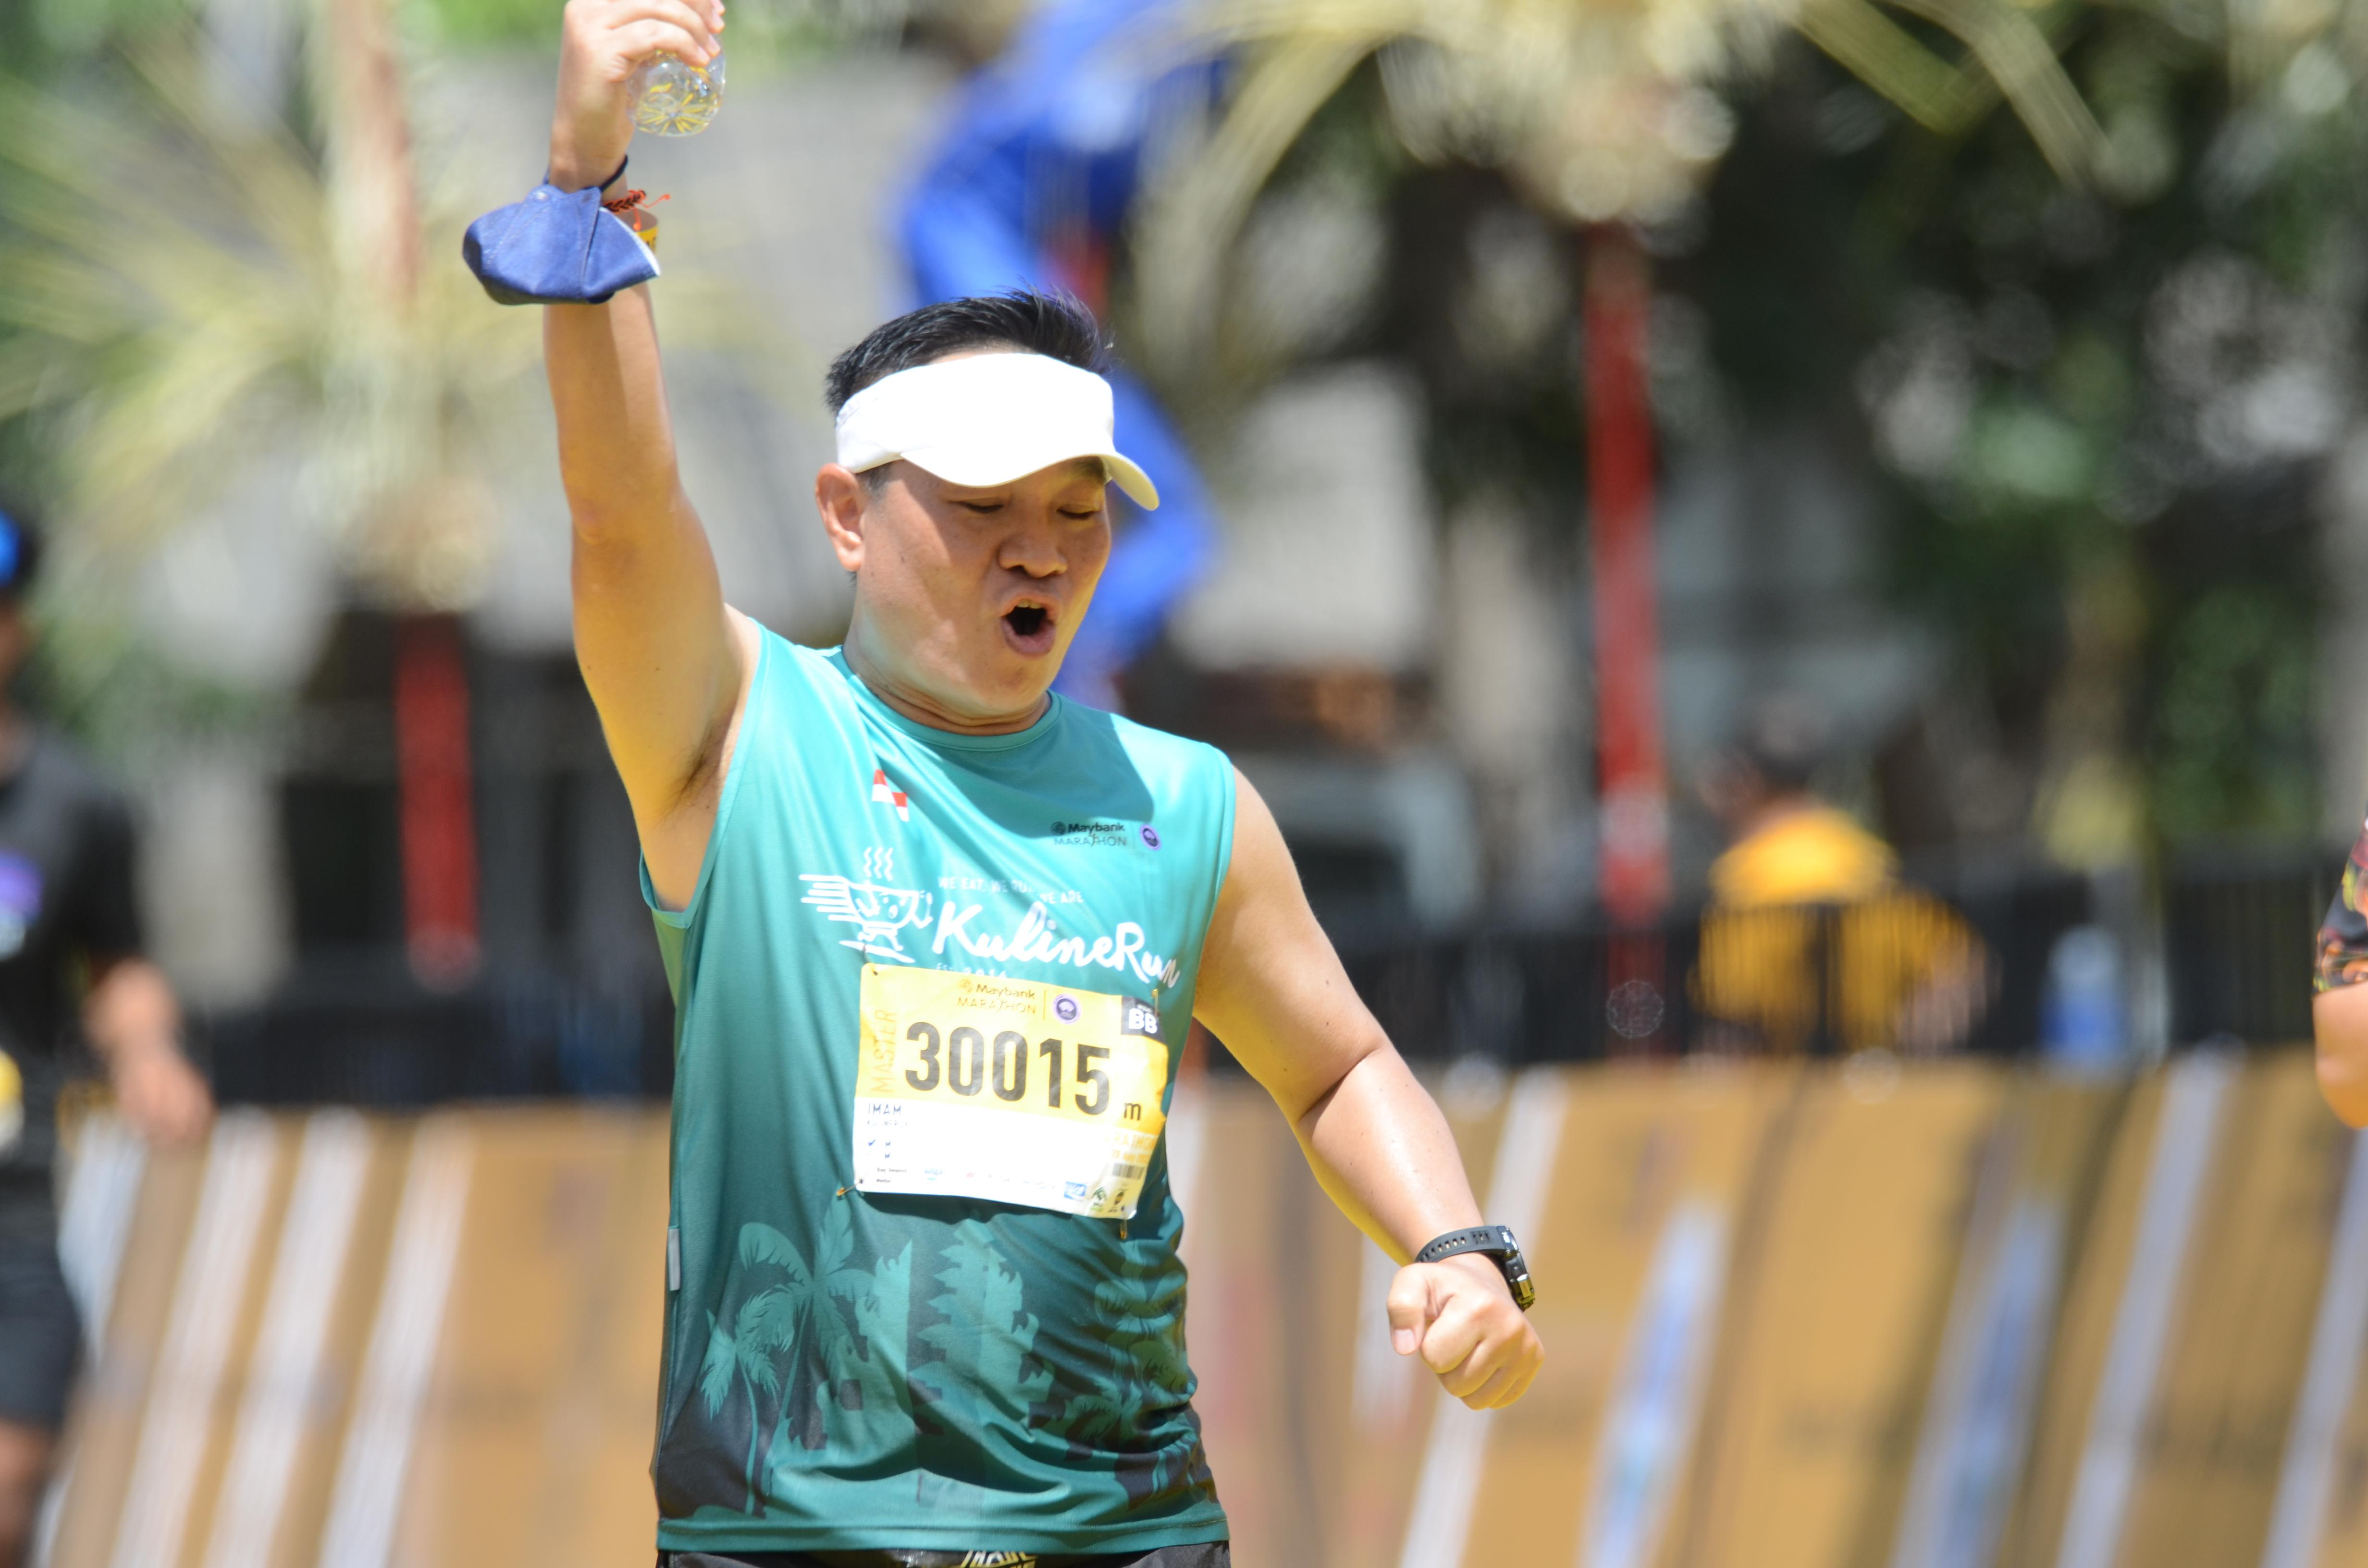bib: (847, 966, 1169, 1214)
